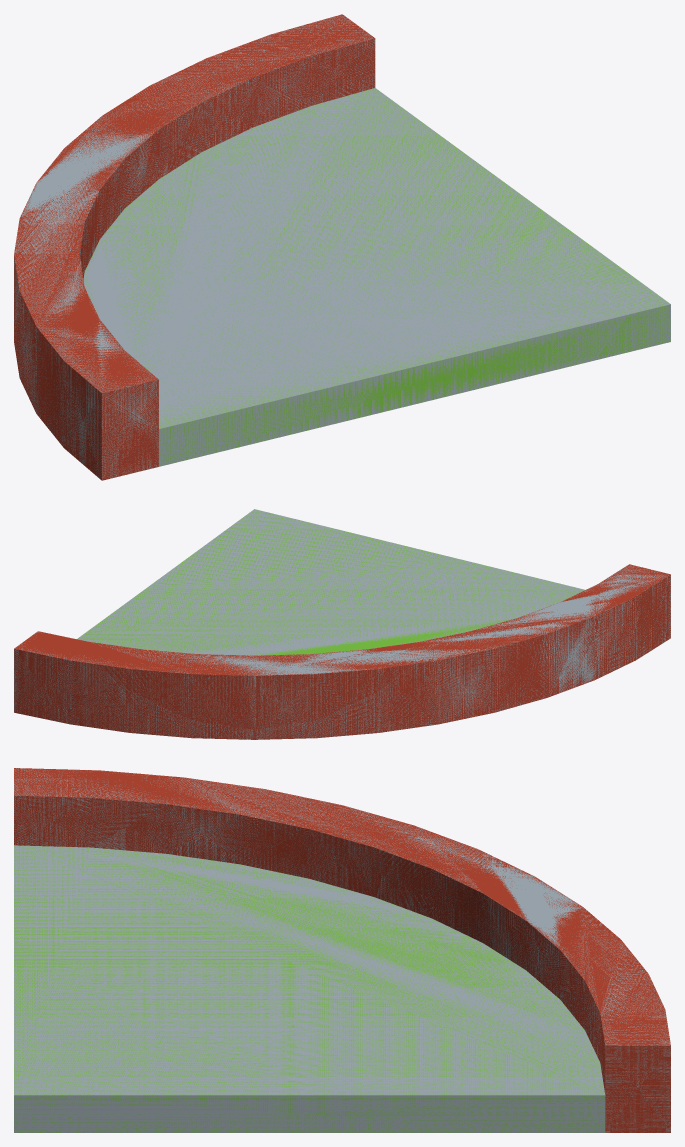
Rendered from Round_corner_3_01.obj.
The picture shows the model from 3 angles, top to bottom: view 1: azimuth 30°, elevation 25°; view 2: azimuth 150°, elevation 25°; view 3: azimuth 270°, elevation 25°; orthographic projection. The views are drawn at different scales.
Parts seen in each view (by area): view 1: Mesh1 Round_corner_3 Model; view 2: Mesh1 Round_corner_3 Model; view 3: Mesh1 Round_corner_3 Model.
Part boxes in pixels (box(x1,y1,x2,y2)): Mesh1 Round_corner_3 Model: box(14, 14, 670, 480); Mesh1 Round_corner_3 Model: box(14, 509, 670, 739); Mesh1 Round_corner_3 Model: box(14, 768, 670, 1132).
Size of the model in its own units: 3 by 0.44 by 3.
